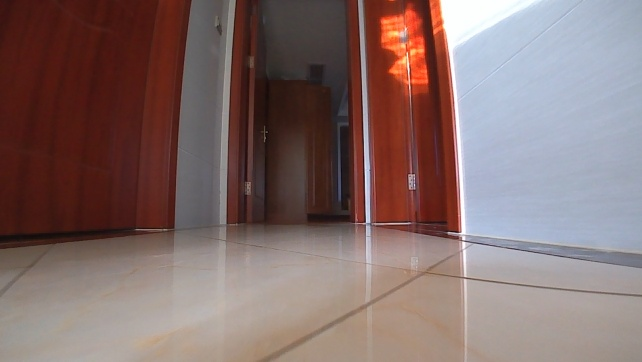door_anno: (220, 0, 270, 225)
